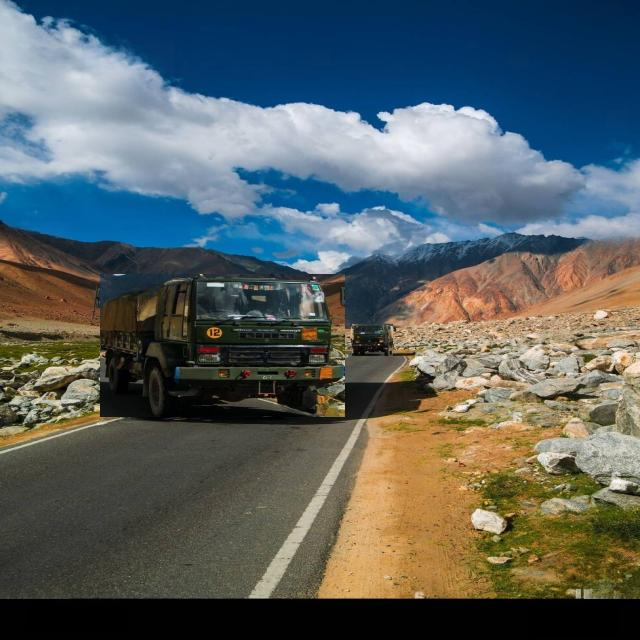truck: (100, 275, 344, 417), (352, 324, 393, 356)
